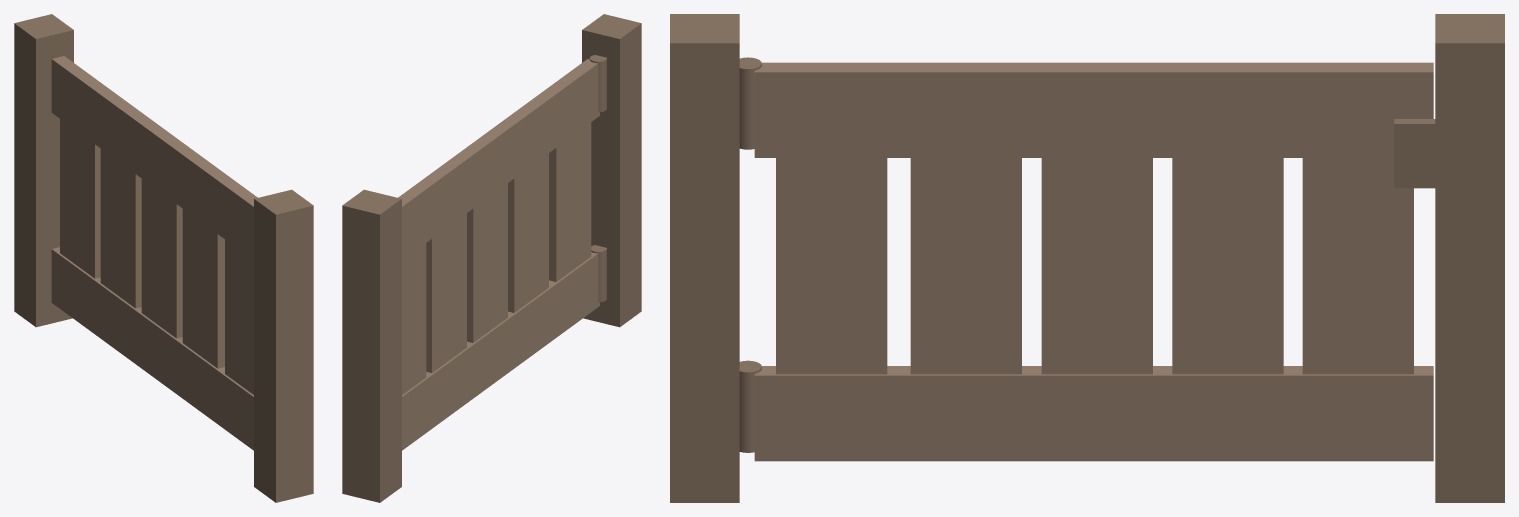
File: Fence Gate.fbx
3 views of the same model, side by side, from view 1: azimuth 30°, elevation 25°; view 2: azimuth 150°, elevation 25°; view 3: azimuth 270°, elevation 25° (orthographic). The views are drawn at different scales.
Parts seen in each view (by area): view 1: FencePole, FencePole1, FenceBoardTop, FenceBoardBottom, FenceBoardMiddle1, FenceBoardMiddle3, FenceBoardMiddle2, FenceBoardMiddle4, FenceBoardMiddle; view 2: FencePole1, FencePole, FenceBoardTop, FenceBoardBottom, FenceBoardMiddle, FenceBoardMiddle2, FenceBoardMiddle3, FenceBoardMiddle1, FenceBoardMiddle4, BottomHinge1; view 3: FenceBoardTop, FenceBoardBottom, FencePole, FencePole1, FenceBoardMiddle2, FenceBoardMiddle3, FenceBoardMiddle1, FenceBoardMiddle, FenceBoardMiddle4, BottomHinge1, GateHolder.
Part boxes in pixels (bbox=[...]): FencePole: bbox=[254, 189, 313, 502]; FencePole1: bbox=[14, 14, 73, 327]; FenceBoardTop: bbox=[51, 56, 257, 260]; FenceBoardBottom: bbox=[51, 247, 253, 450]; FenceBoardMiddle1: bbox=[182, 209, 224, 368]; FenceBoardMiddle3: bbox=[141, 179, 182, 338]; FenceBoardMiddle2: bbox=[100, 149, 141, 308]; FenceBoardMiddle4: bbox=[60, 119, 100, 278]; FenceBoardMiddle: bbox=[225, 240, 253, 394]; FencePole1: bbox=[342, 189, 401, 502]; FencePole: bbox=[582, 14, 641, 327]; FenceBoardTop: bbox=[398, 59, 599, 260]; FenceBoardBottom: bbox=[402, 252, 599, 450]; FenceBoardMiddle: bbox=[549, 122, 591, 281]; FenceBoardMiddle2: bbox=[426, 213, 466, 372]; FenceBoardMiddle3: bbox=[467, 183, 507, 342]; FenceBoardMiddle1: bbox=[508, 153, 548, 312]; FenceBoardMiddle4: bbox=[402, 243, 426, 394]; BottomHinge1: bbox=[589, 55, 606, 302]; FenceBoardTop: bbox=[754, 62, 1433, 157]; FenceBoardBottom: bbox=[754, 366, 1433, 461]; FencePole: bbox=[670, 14, 739, 502]; FencePole1: bbox=[1435, 14, 1504, 502]; FenceBoardMiddle2: bbox=[1172, 158, 1283, 374]; FenceBoardMiddle3: bbox=[1041, 158, 1152, 374]; FenceBoardMiddle1: bbox=[910, 158, 1021, 374]; FenceBoardMiddle: bbox=[776, 158, 887, 374]; FenceBoardMiddle4: bbox=[1302, 158, 1413, 374]; BottomHinge1: bbox=[739, 57, 761, 452]; GateHolder: bbox=[1394, 119, 1435, 188].
Size of the model in its own units: 0.5 by 3.64 by 6.
